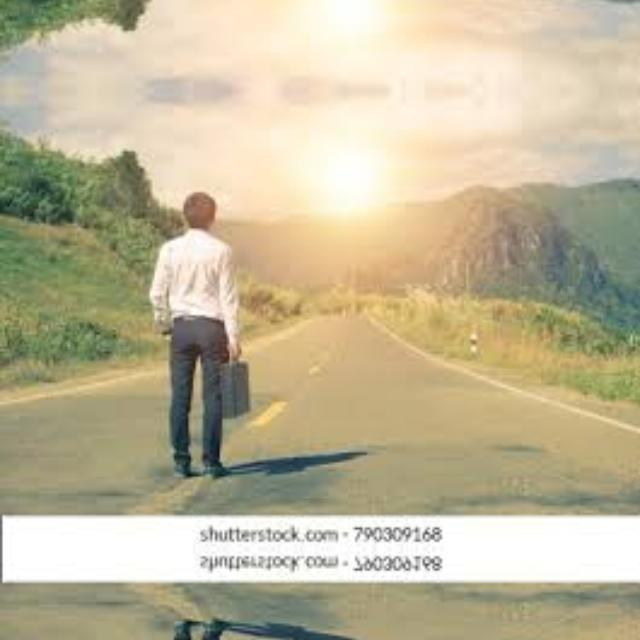person: (142, 184, 258, 462), (142, 635, 258, 640)
